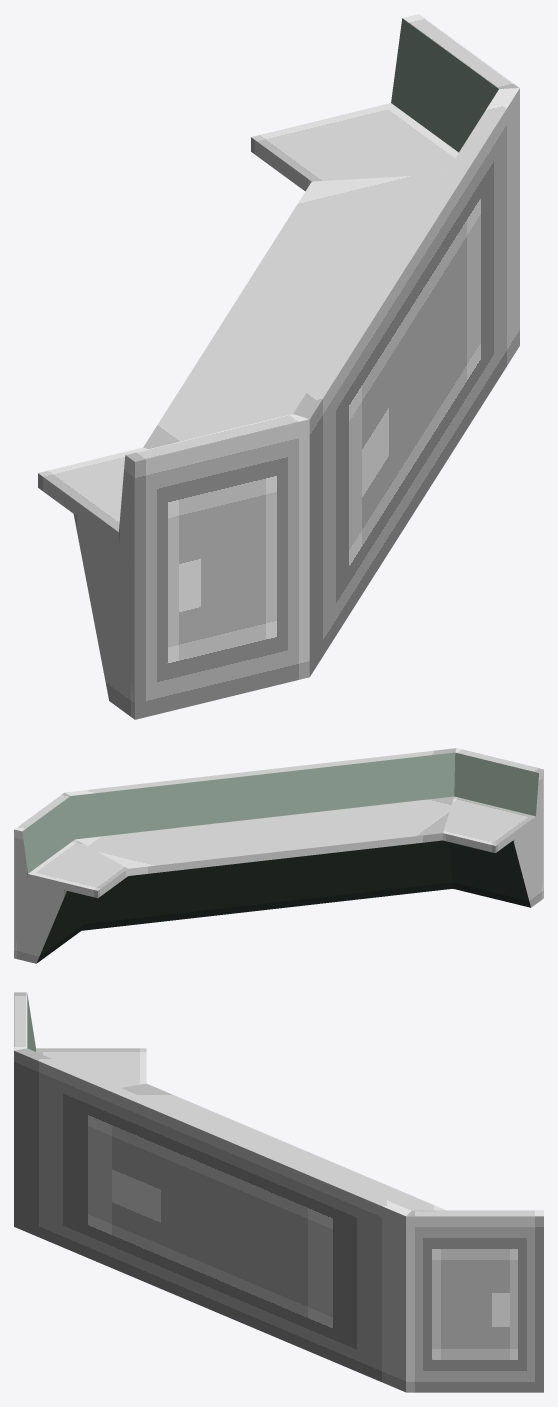
File: desk_corner_inside_2_item.obj
3 views of the same model, one above another, from view 1: azimuth 30°, elevation 25°; view 2: azimuth 150°, elevation 25°; view 3: azimuth 270°, elevation 25° (orthographic). The views are drawn at different scales.
Bounding box in the file's own units: 3 × 1.1 × 3.
